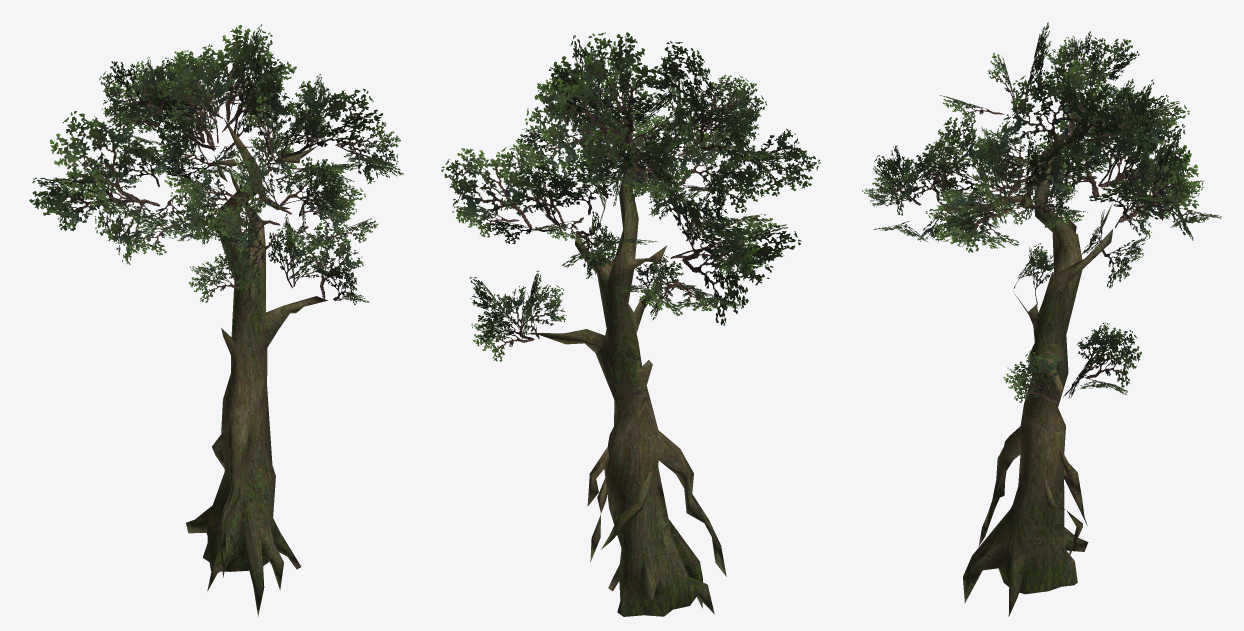
Rendered from d_sd_shu01b_zw.FBX.
3 renders of one model, left to right at view 1: azimuth 30°, elevation 25°; view 2: azimuth 150°, elevation 25°; view 3: azimuth 270°, elevation 25°, orthographic. The views are drawn at different scales.
Parts seen in each view (by area): view 1: d_sd_shu01b_zw_B, d_sd_shu01b_zw_A; view 2: d_sd_shu01b_zw_B, d_sd_shu01b_zw_A; view 3: d_sd_shu01b_zw_B, d_sd_shu01b_zw_A.
Part boxes in pixels (x1,y1,x2,y2): d_sd_shu01b_zw_B: (29, 24, 403, 305); d_sd_shu01b_zw_A: (186, 118, 327, 616); d_sd_shu01b_zw_B: (441, 32, 820, 361); d_sd_shu01b_zw_A: (527, 136, 726, 616); d_sd_shu01b_zw_B: (862, 22, 1221, 402); d_sd_shu01b_zw_A: (963, 144, 1113, 616).
Size of the model in its own units: 739 by 1264 by 731.
